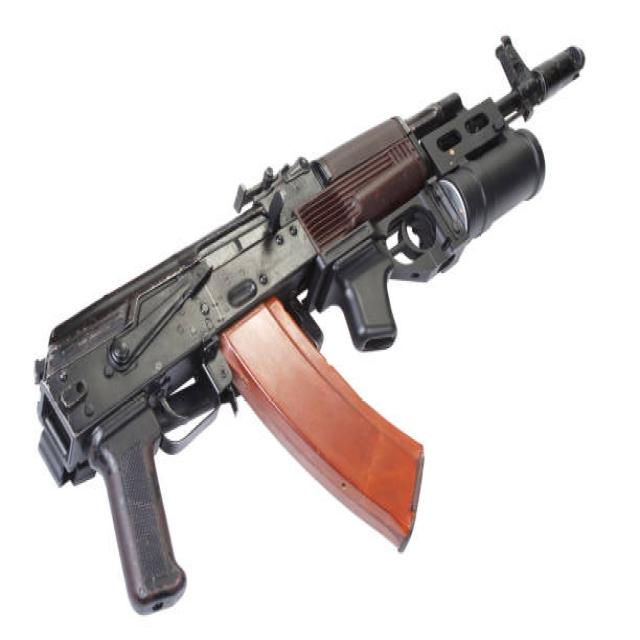rifle: (41, 29, 592, 622)
